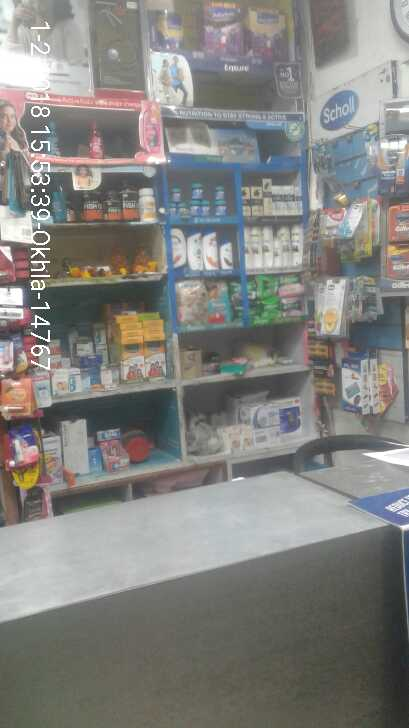vicks: (167, 181, 229, 219)
